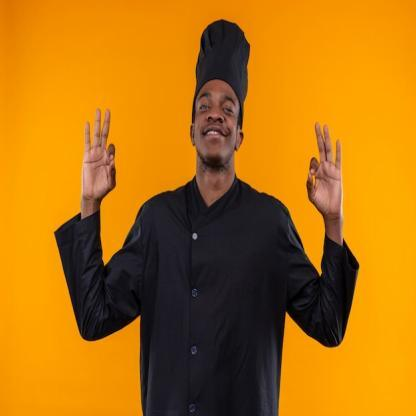ok: (304, 119, 344, 223), (79, 104, 120, 204)
